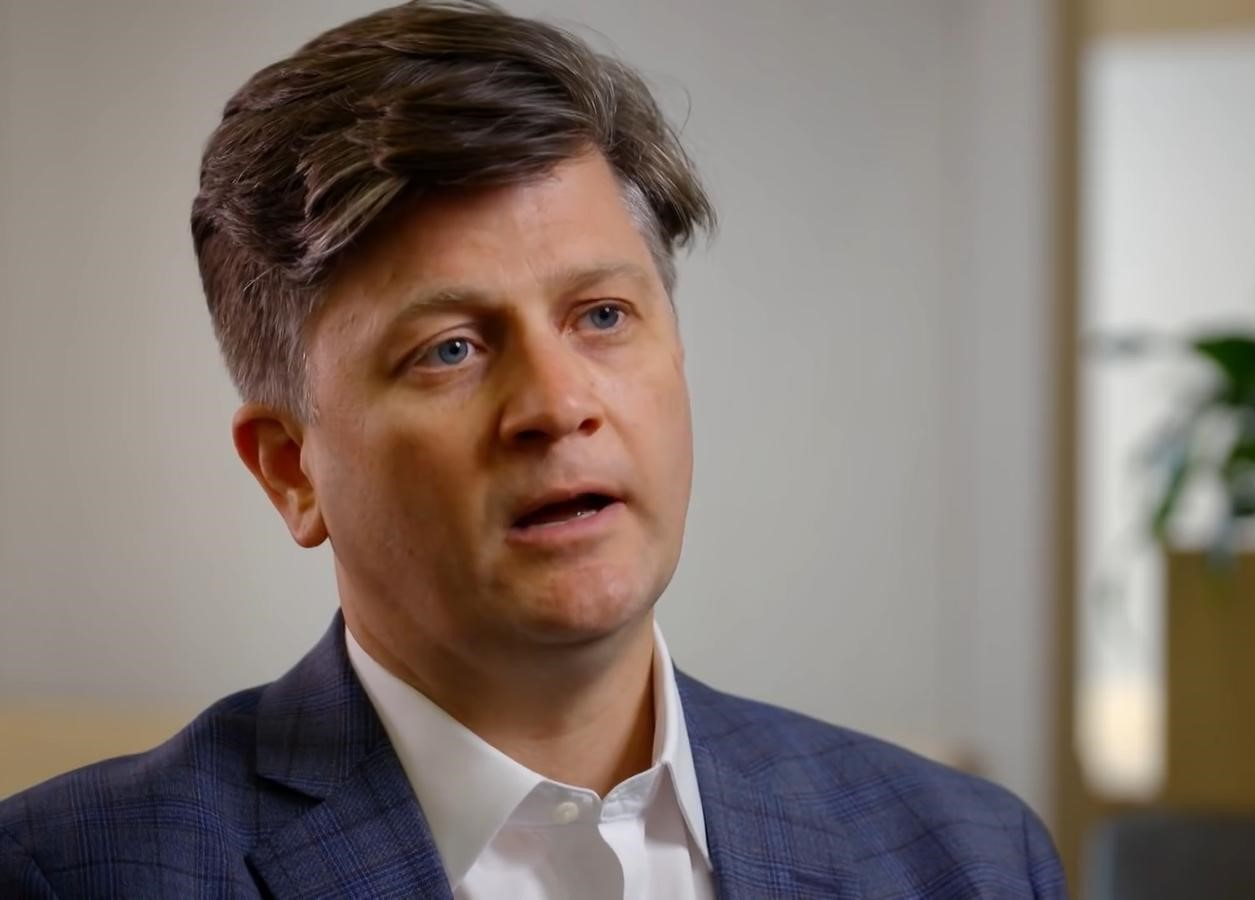without_mask: (383, 258, 647, 604)
